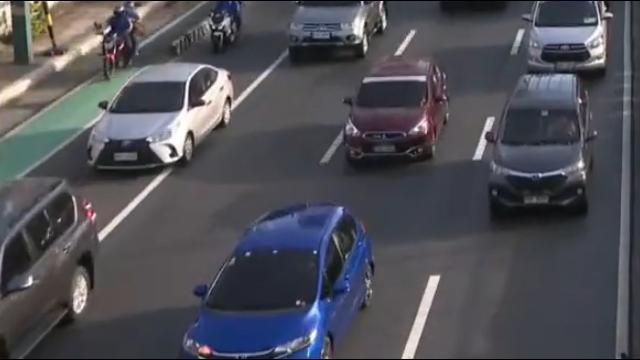car: (183, 205, 377, 360), (0, 178, 98, 360), (483, 72, 598, 220), (84, 63, 234, 174), (341, 59, 454, 166), (284, 0, 388, 61), (526, 0, 611, 70)
motorcycle: (94, 0, 141, 81), (206, 0, 246, 53)
